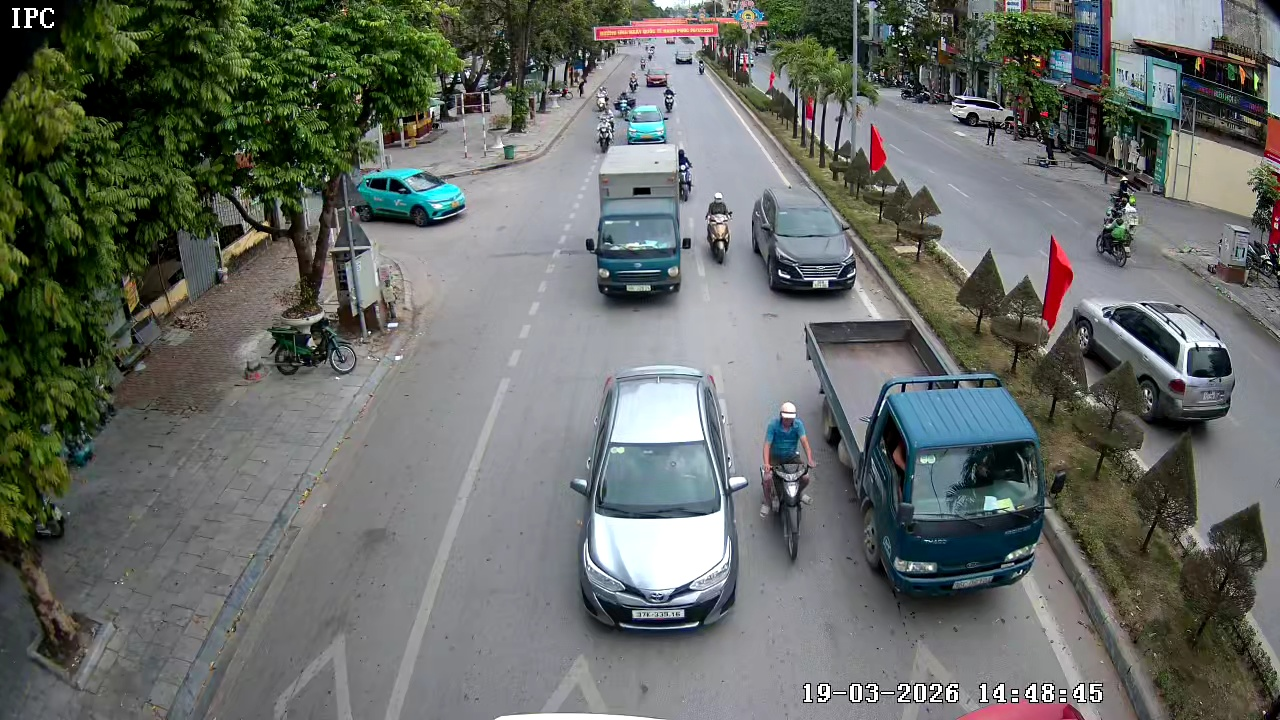bike: (756, 401, 815, 561)
car: (571, 367, 744, 635), (839, 372, 1044, 596), (1066, 299, 1234, 427), (749, 187, 857, 294), (350, 166, 467, 228), (622, 102, 672, 145)
motorbike: (267, 314, 365, 373), (1095, 183, 1142, 267), (702, 190, 734, 265), (595, 115, 612, 152), (661, 87, 676, 113)
truck: (585, 137, 692, 303)
